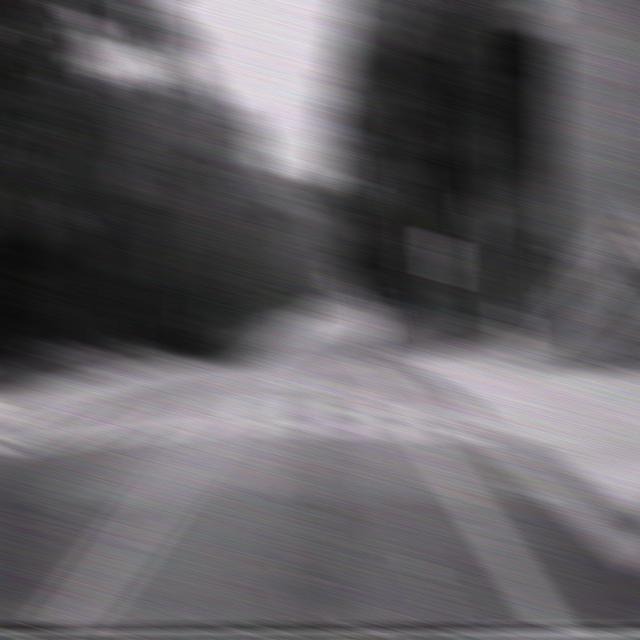speedLimit35: (426, 230, 455, 264)
